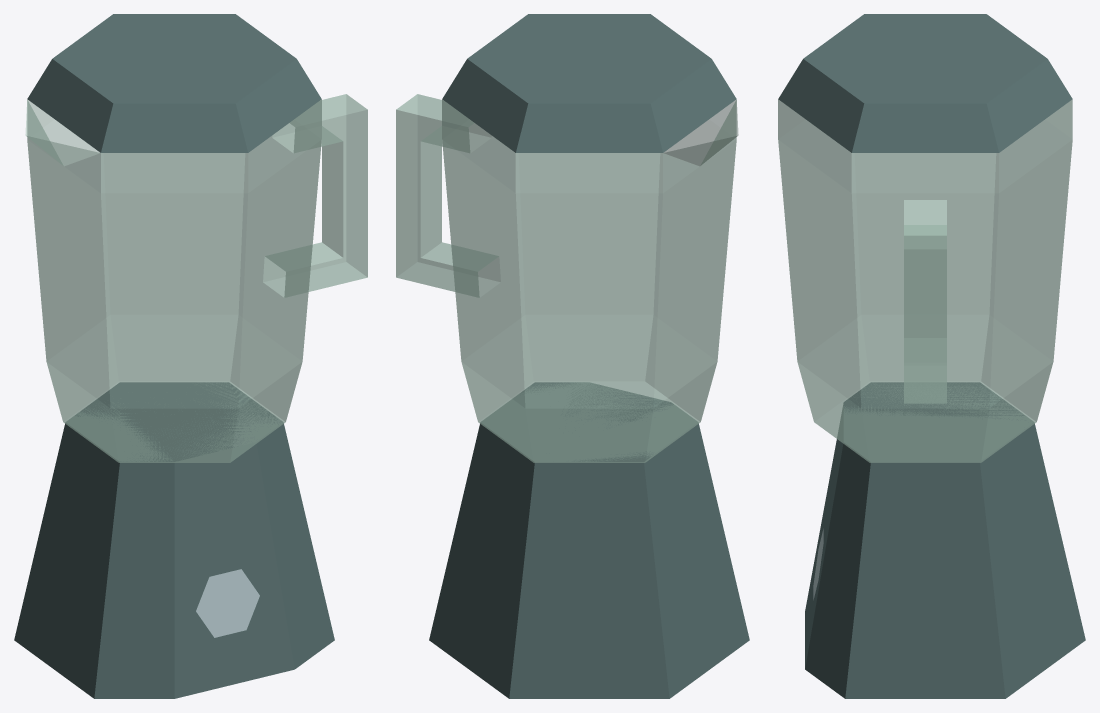
File: blender.5c613c98.glb
The picture shows the model from 3 angles, left to right: view 1: azimuth 30°, elevation 25°; view 2: azimuth 150°, elevation 25°; view 3: azimuth 270°, elevation 25°; orthographic projection.
Visible parts, largest first — view 1: model; view 2: model; view 3: model.
Boxes of the visible parts, x1,y1,x2,y2 form: model: [14, 14, 367, 698]; model: [396, 14, 749, 698]; model: [778, 14, 1085, 698].
Size of the model in its own units: 0.2852 by 0.4778 by 0.2291.
